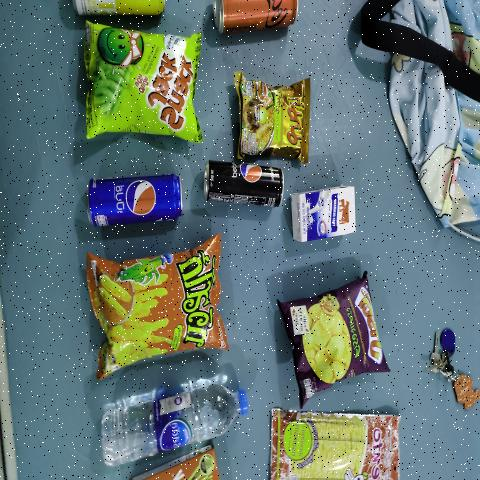bento_red: (272, 417, 394, 480)
crystal: (98, 370, 246, 462)
mama: (244, 86, 306, 147)
party_purple: (289, 270, 381, 398)
pepsi_black: (205, 160, 282, 206)
pepsi_blue: (88, 179, 177, 223)
snack_jack: (90, 36, 191, 130)
thai_denmark: (294, 186, 358, 240)
twisco: (94, 243, 218, 366)
